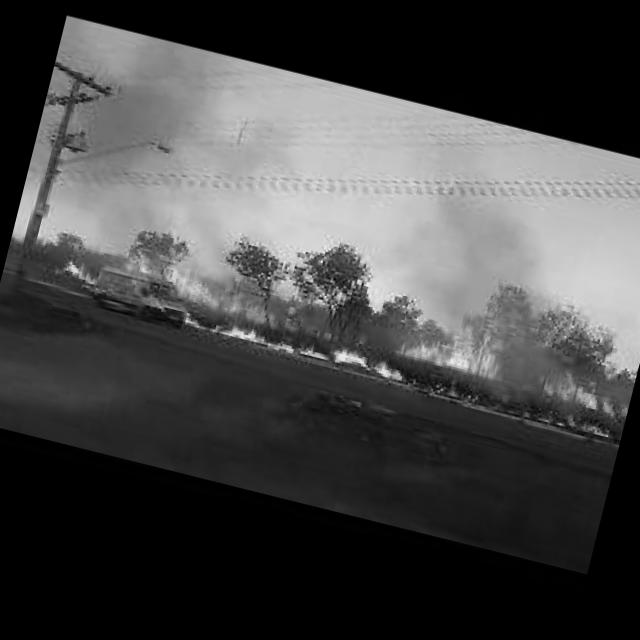fire: (180, 310, 625, 440), (126, 248, 326, 330), (394, 311, 512, 381), (542, 357, 636, 415), (56, 260, 96, 288)
smoke: (64, 31, 320, 266), (386, 144, 594, 352)
